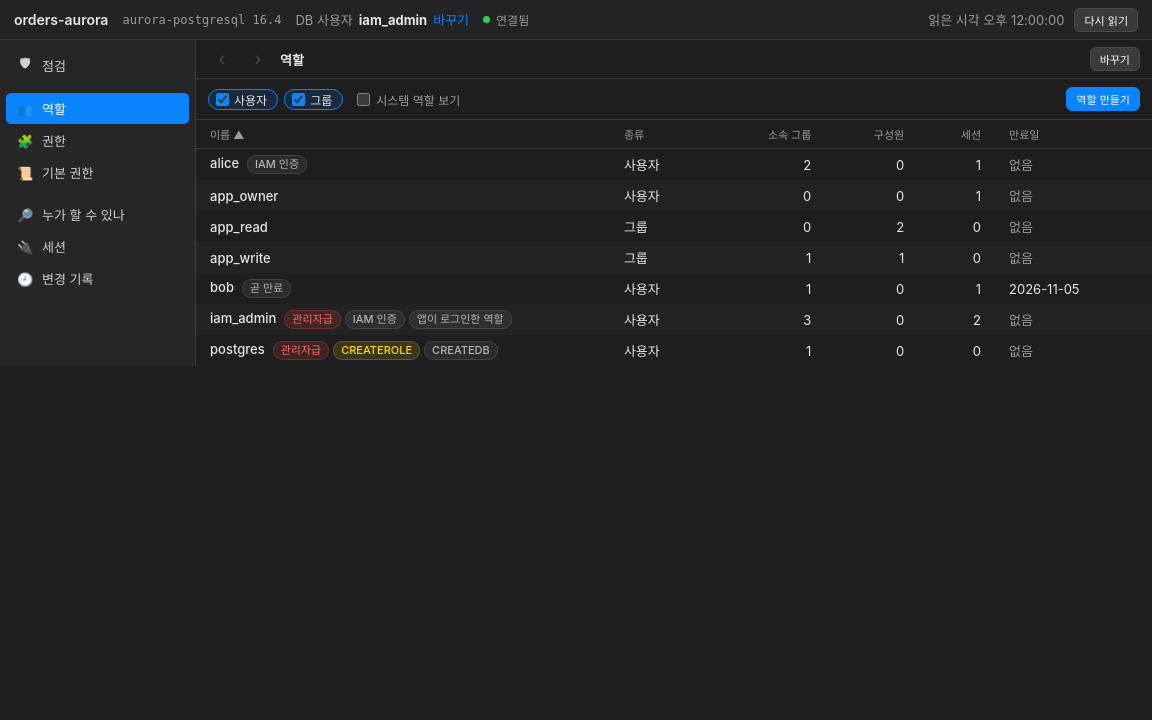
Scenario: the 바꾸기 toggle › stays on when the user moves to other screens and back
Step 1. Click the button "🧩 권한" → (98, 140), box [6,125,189,156]
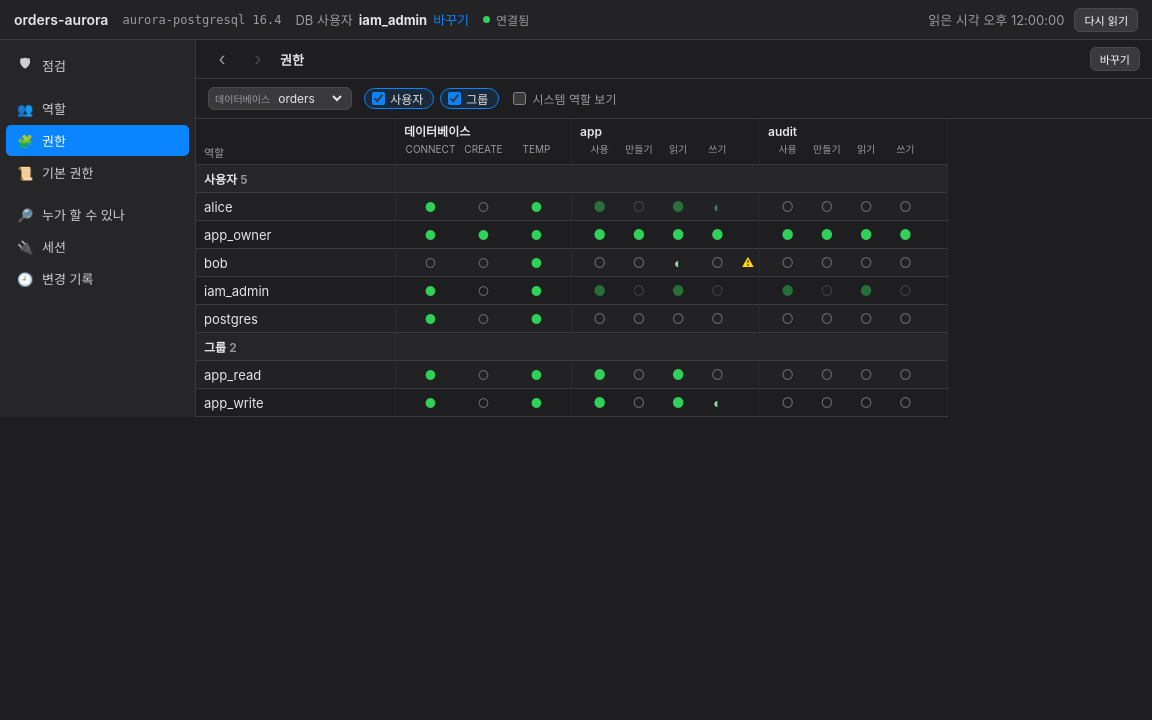
Step 2. Click the 2nd button "바꾸기" → (1115, 59), box [1090,47,1140,71]
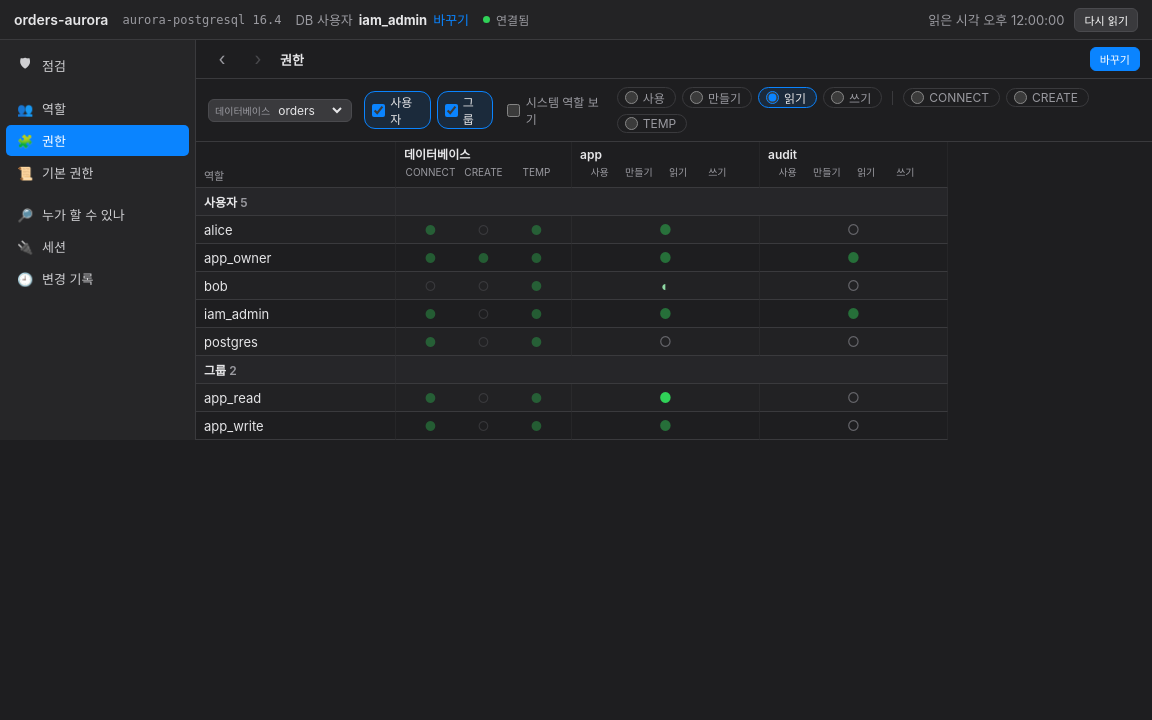
Step 3. Click the button "📜 기본 권한" → (98, 172), box [6,157,189,188]
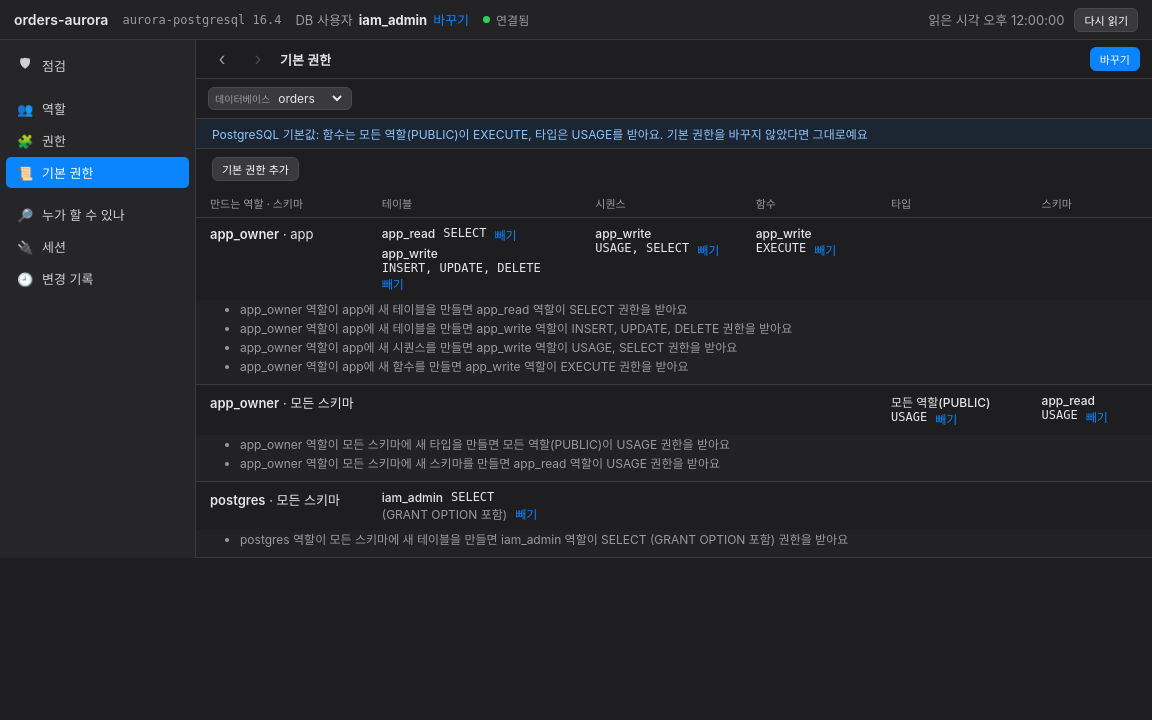
Expected: the 2nd button "바꾸기" is shown, [1090,47,1140,71]
Result: the table named "기본 권한" is shown at [196,189,1151,558]
Step 4. Click the button "🧩 권한" → (98, 140), box [6,125,189,156]
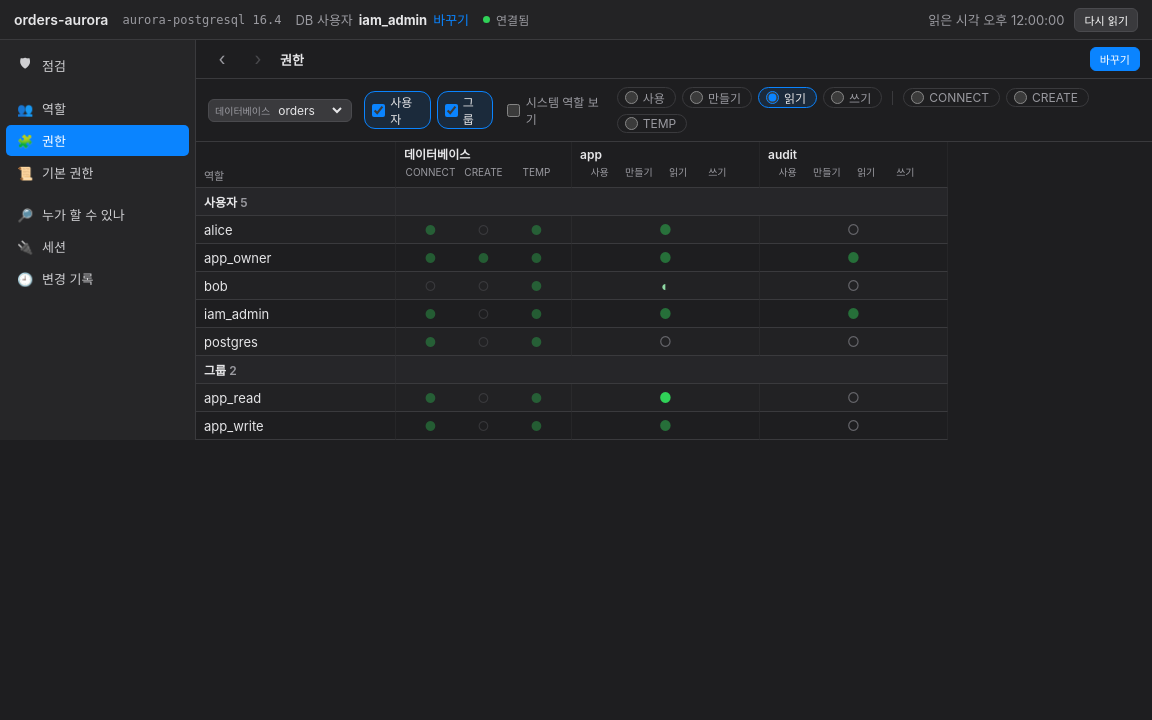
Result: the element named "칠할 권한" is shown at [617,87,1140,133]
